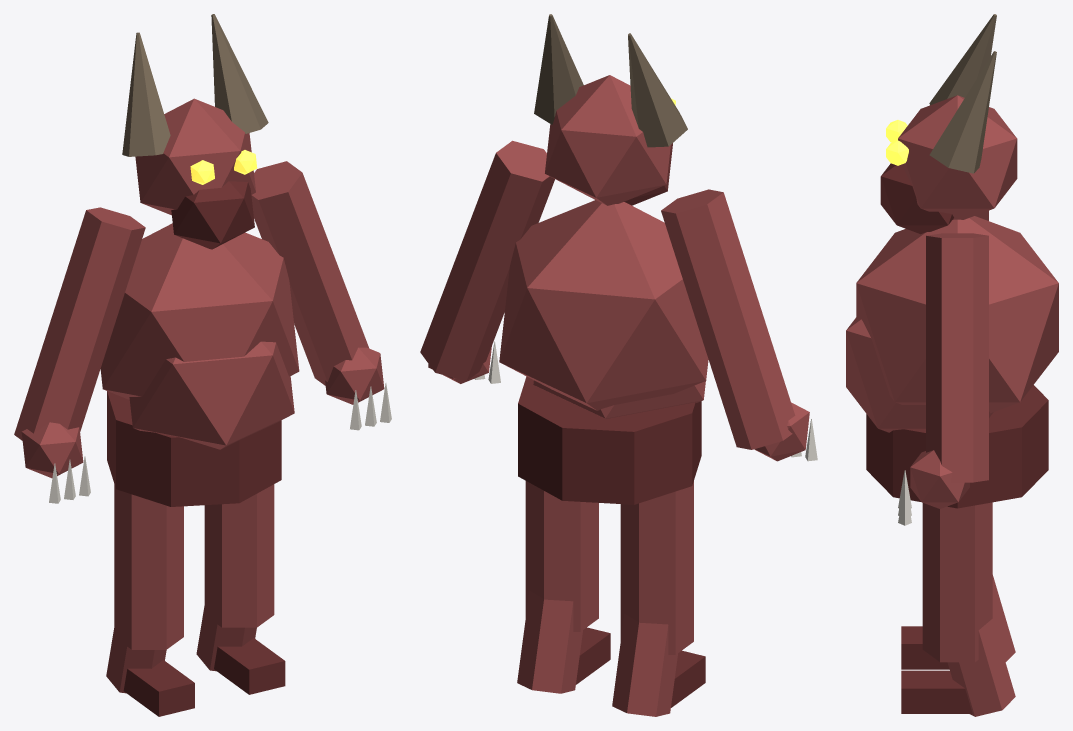
File: demon.glb
3 renders of one model, left to right at view 1: azimuth 30°, elevation 25°; view 2: azimuth 150°, elevation 25°; view 3: azimuth 270°, elevation 25°, orthographic. The views are drawn at different scales.
Visible parts, largest first — view 1: torso, arm_l, arm_r, belly, hips, thigh_l, thigh_r, head, jaw, horn_l, horn_r, foot_r (+5 smaller); view 2: torso, arm_l, hips, arm_r, head, thigh_l, thigh_r, shin_r, shin_l, horn_l, horn_r, belly (+3 smaller); view 3: torso, arm_r, thigh_r, hips, head, belly, horn_r, shin_r, foot_r, jaw, hand_r, horn_l (+3 smaller).
Boxes of the visible parts, x1,y1,x2,y2 form: torso: [100, 223, 299, 399]; arm_l: [14, 207, 145, 440]; arm_r: [251, 161, 369, 385]; belly: [129, 341, 294, 449]; hips: [107, 391, 281, 506]; thigh_l: [114, 484, 183, 649]; thigh_r: [204, 484, 274, 627]; head: [135, 98, 255, 215]; jaw: [171, 181, 254, 249]; horn_l: [122, 32, 170, 156]; horn_r: [211, 14, 268, 133]; foot_r: [214, 638, 285, 694]; torso: [499, 200, 708, 410]; arm_l: [661, 189, 795, 449]; hips: [518, 376, 701, 504]; arm_r: [420, 140, 554, 381]; head: [545, 75, 670, 205]; thigh_l: [620, 481, 693, 654]; thigh_r: [525, 481, 598, 631]; shin_r: [517, 591, 582, 693]; shin_l: [612, 614, 677, 716]; horn_l: [628, 33, 687, 147]; horn_r: [534, 14, 583, 124]; belly: [533, 380, 705, 418]; torso: [856, 216, 1058, 413]; arm_r: [926, 233, 988, 482]; thigh_r: [922, 502, 992, 662]; hips: [866, 385, 1048, 508]; head: [898, 95, 1017, 219]; belly: [846, 317, 993, 432]; horn_r: [929, 51, 996, 173]; shin_r: [947, 619, 1015, 716]; foot_r: [901, 670, 972, 713]; jaw: [880, 163, 953, 234]; hand_r: [910, 450, 969, 508]; horn_l: [929, 14, 996, 105].
Bounding box in the file's own units: 1.18 × 2.06 × 0.6074.
